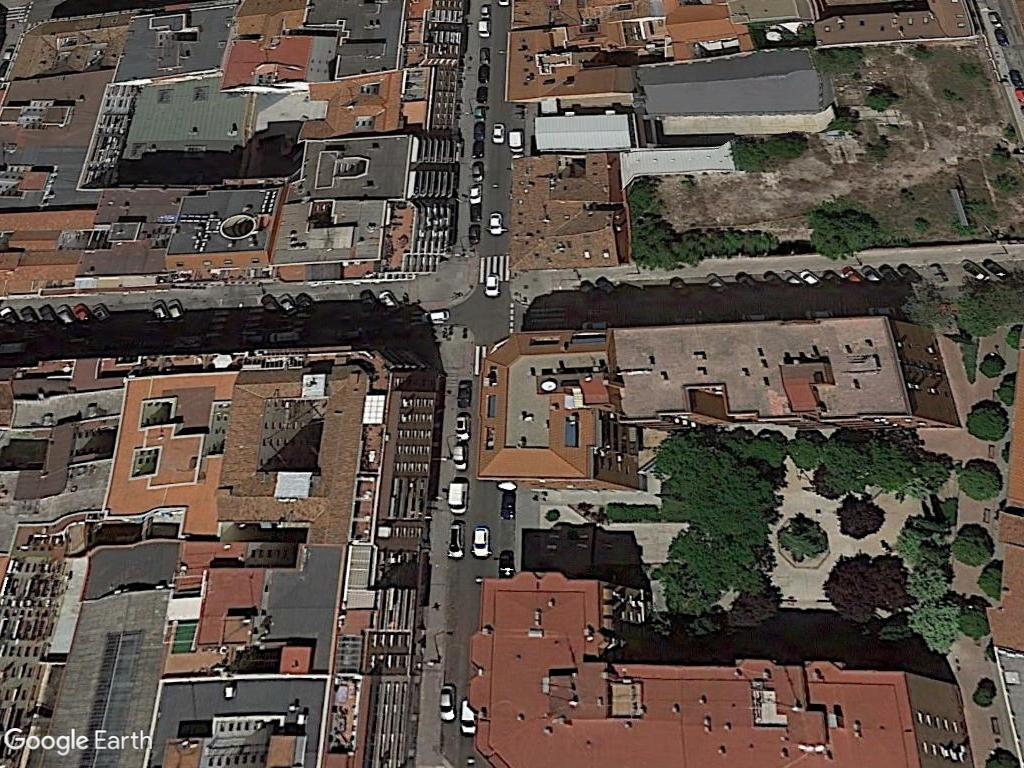car: (437, 682, 458, 726), (471, 524, 493, 561), (482, 271, 502, 301), (487, 208, 504, 239), (490, 119, 507, 147)
van: (446, 477, 471, 517)
